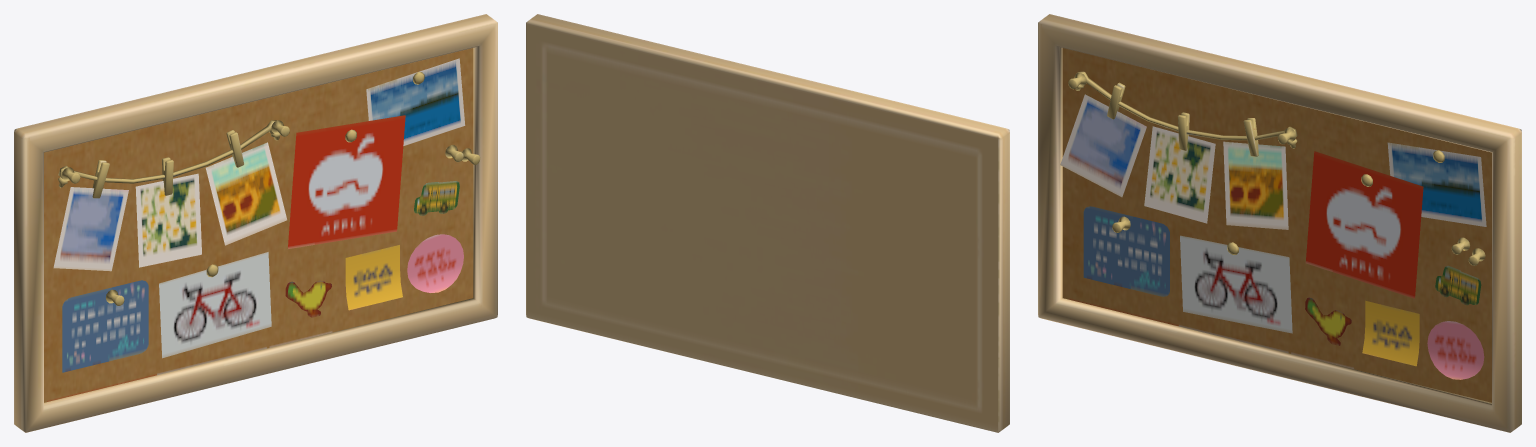
The model's file is cardboard.glb.
3 renders of one model, left to right at view 1: azimuth 30°, elevation 25°; view 2: azimuth 150°, elevation 25°; view 3: azimuth 330°, elevation 25°, orthographic.
Parts seen in each view (by area): view 1: board_low__mReBody.001_Baked; view 2: board_low__mReBody.001_Baked; view 3: board_low__mReBody.001_Baked.
Part boxes in pixels (x1,y1,x2,y2): board_low__mReBody.001_Baked: (14, 14, 497, 432); board_low__mReBody.001_Baked: (526, 14, 1009, 432); board_low__mReBody.001_Baked: (1038, 14, 1521, 432).
Size of the model in its own units: 0.3969 by 0.2381 by 0.0292.
Materials: 1 (1 with a texture image).
